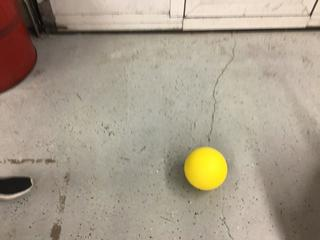power_cell: (181, 145, 228, 192)
